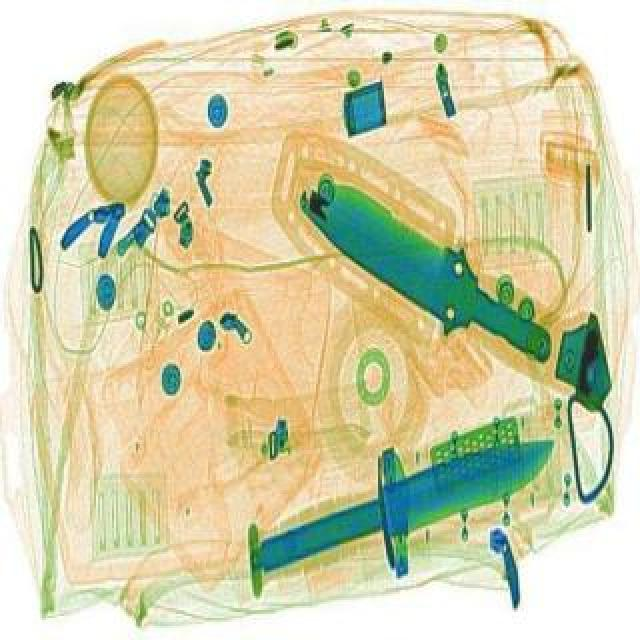knife: (288, 178, 576, 382), (252, 430, 570, 590)
